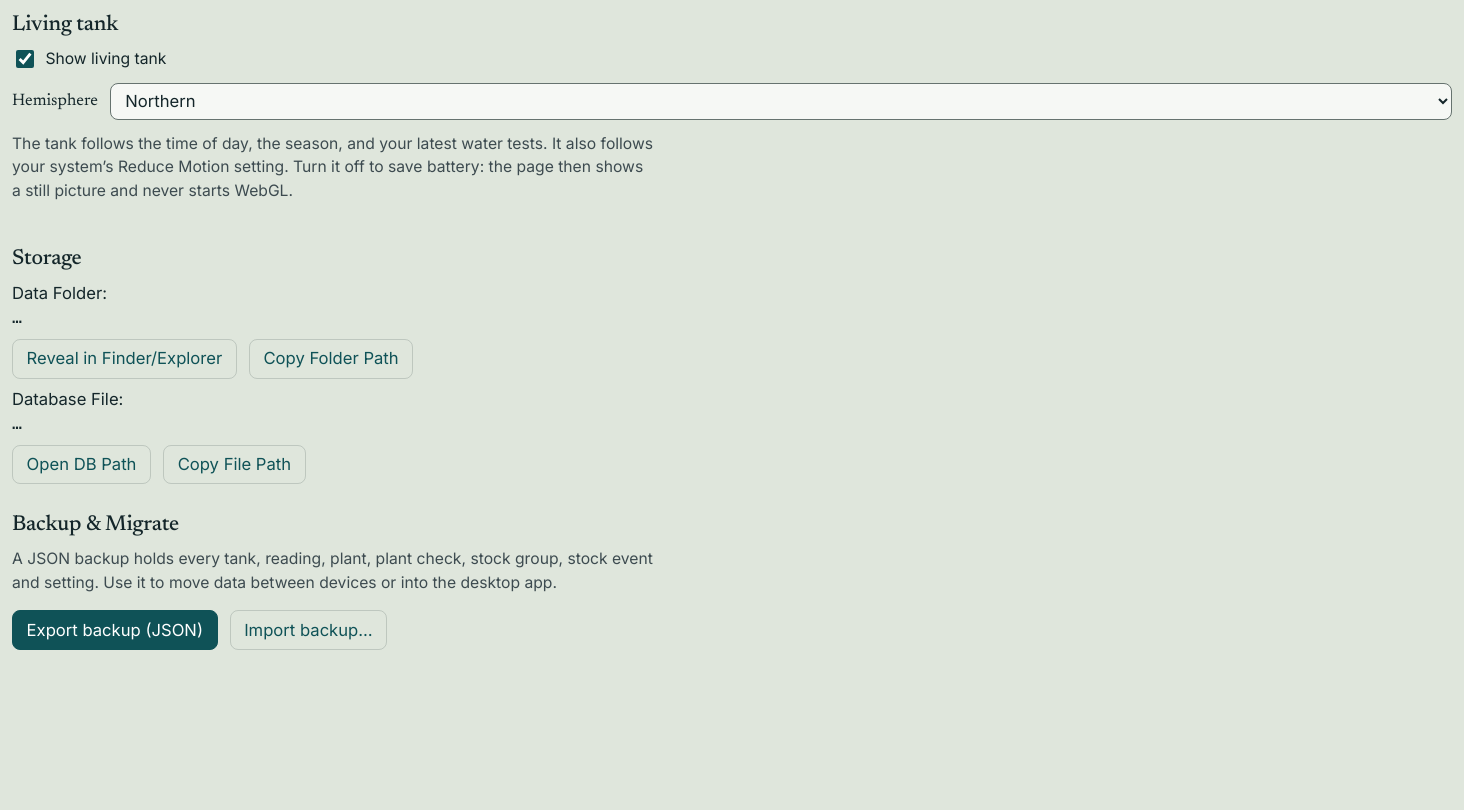
Test: JSON export inside Tauri › reports the saved path on desktop
The image size is (1464, 810).
Click the button "Export backup (JSON)": (115, 630) [12,610,218,650]
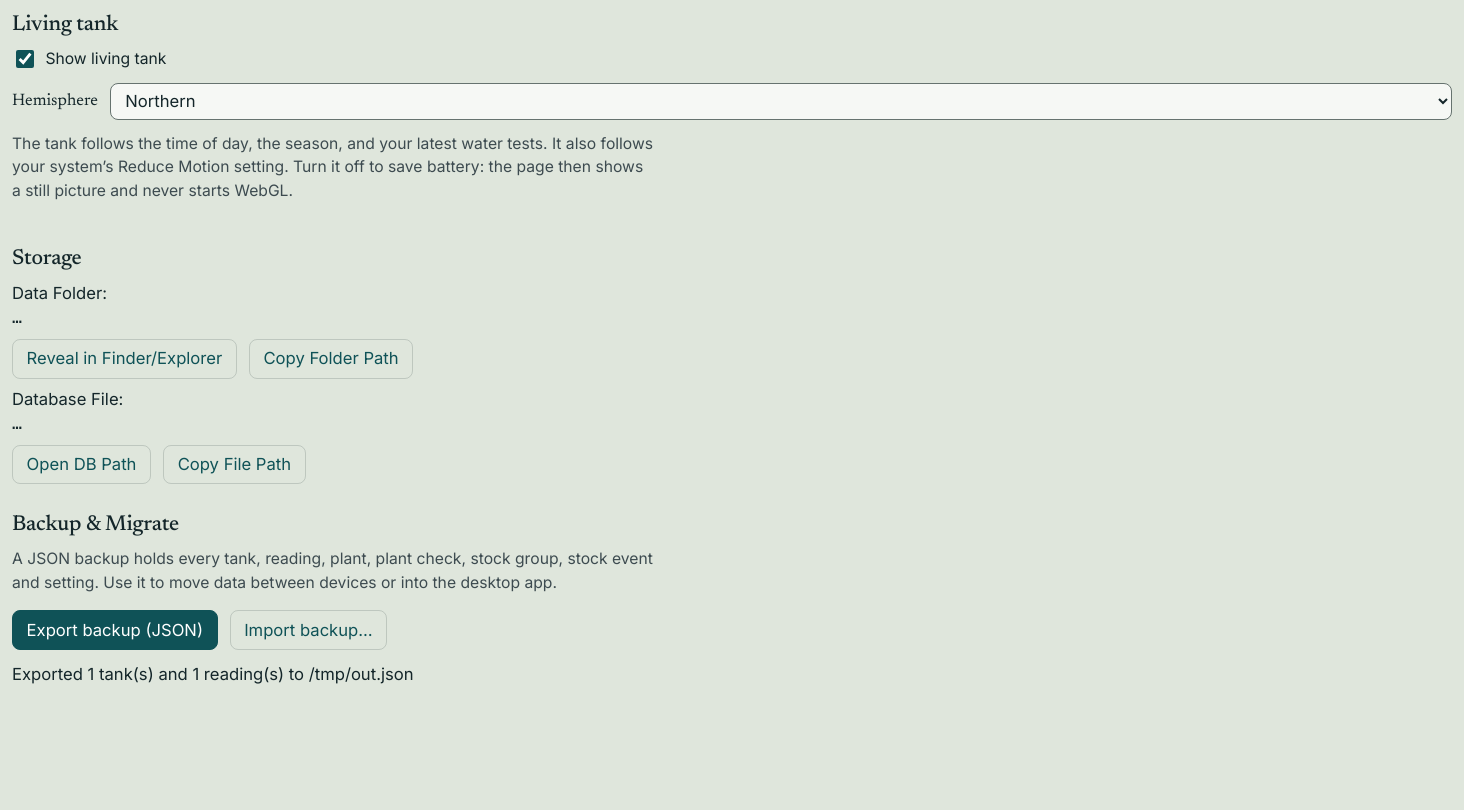
Expected: the text "Exported 1 tank(s) and 1 reading(s) to /tmp/out.json" is shown, [12,664,414,684]
